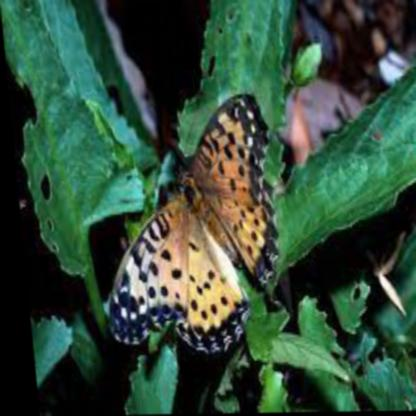Butterfly: (83, 92, 286, 363)
